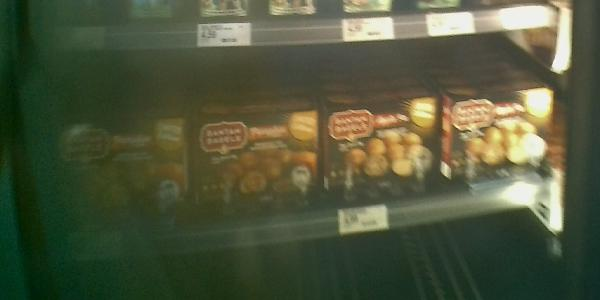icecream: (323, 94, 446, 196), (60, 118, 186, 216), (192, 113, 320, 206), (451, 89, 553, 186)
